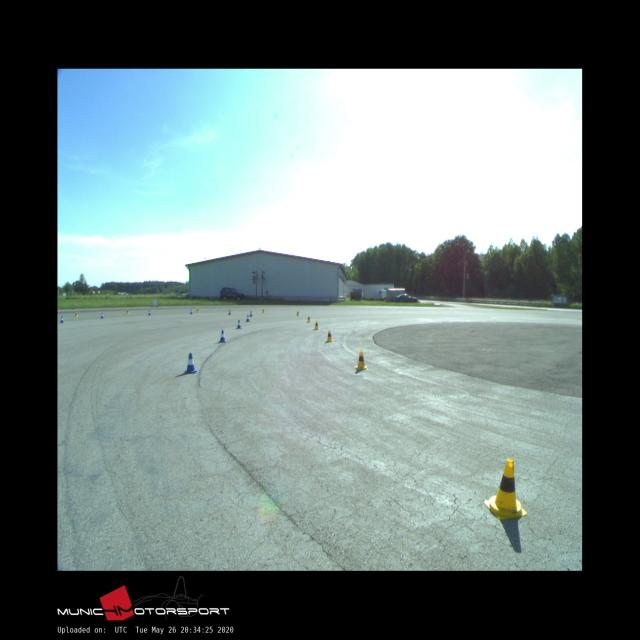blue_cone: (184, 353, 198, 373), (218, 330, 226, 342), (236, 320, 242, 329), (246, 315, 250, 322), (60, 316, 64, 323), (249, 310, 253, 316), (100, 312, 104, 318), (228, 309, 231, 315), (190, 309, 193, 314), (148, 310, 151, 315)
yellow_cone: (483, 458, 526, 519), (354, 350, 367, 369), (326, 329, 334, 342), (306, 314, 312, 322), (314, 320, 319, 329), (296, 310, 300, 316), (74, 311, 78, 317), (126, 309, 130, 314), (262, 308, 265, 313), (197, 307, 200, 312)
